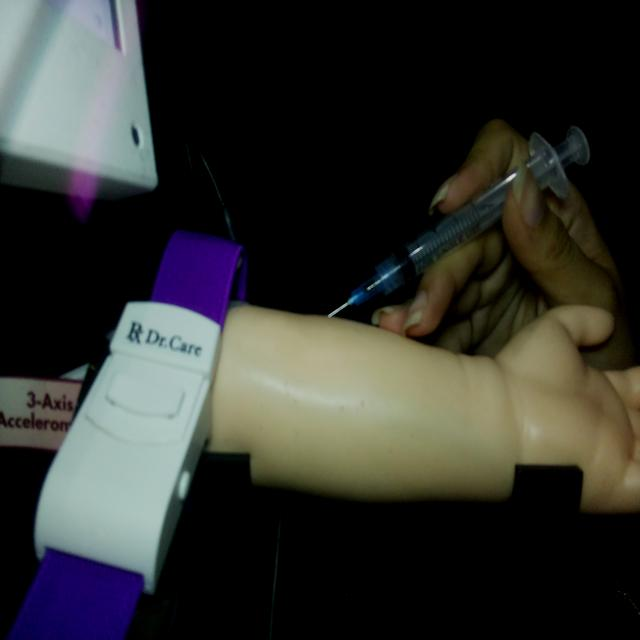26 degrees: (326, 121, 592, 320)
